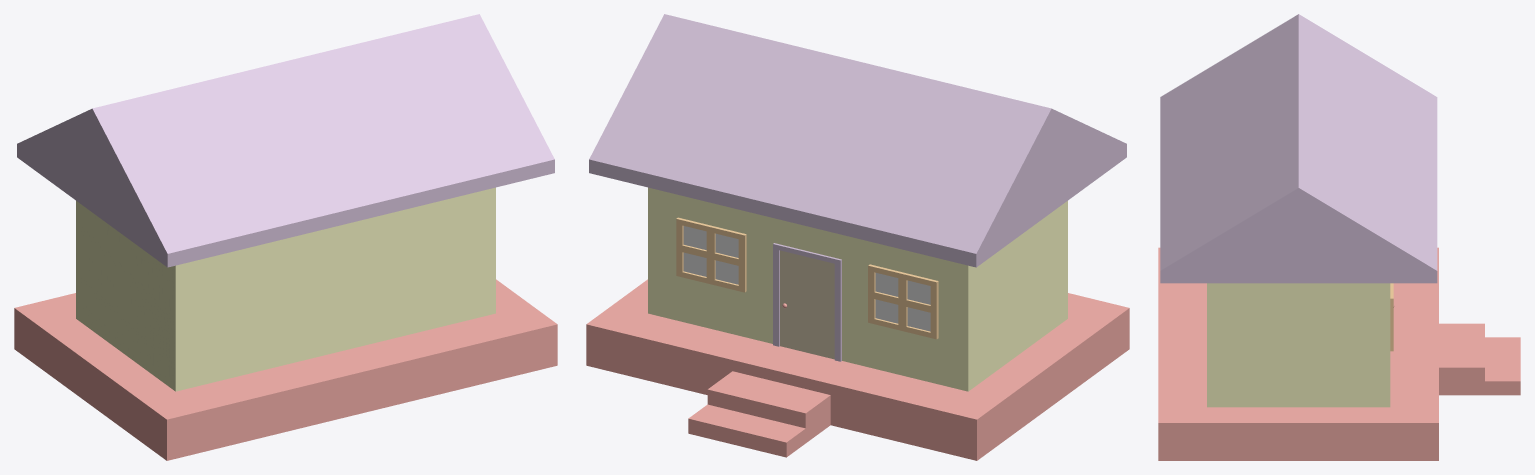
File: Demo house.fbx
3 views of the same model, side by side, from view 1: azimuth 30°, elevation 25°; view 2: azimuth 150°, elevation 25°; view 3: azimuth 270°, elevation 25° (orthographic). The views are drawn at different scales.
Parts seen in each view (by area): view 1: roof, walls, base floor; view 2: roof, base floor, walls, door, window, window glass, door way; view 3: roof, base floor, walls.
Boxes of the visible parts, left/top/right/bottom form: roof: left=17, top=14, right=554, bottom=267; walls: left=76, top=187, right=495, bottom=391; base floor: left=14, top=279, right=557, bottom=460; roof: left=589, top=14, right=1126, bottom=267; base floor: left=586, top=279, right=1129, bottom=460; walls: left=648, top=187, right=1067, bottom=391; door: left=780, top=250, right=834, bottom=359; window: left=676, top=217, right=938, bottom=339; window glass: left=683, top=226, right=930, bottom=331; door way: left=773, top=243, right=841, bottom=361; roof: left=1160, top=14, right=1437, bottom=283; base floor: left=1158, top=247, right=1520, bottom=460; walls: left=1207, top=283, right=1390, bottom=407.
Size of the model in its own units: 796 by 576 by 695.
